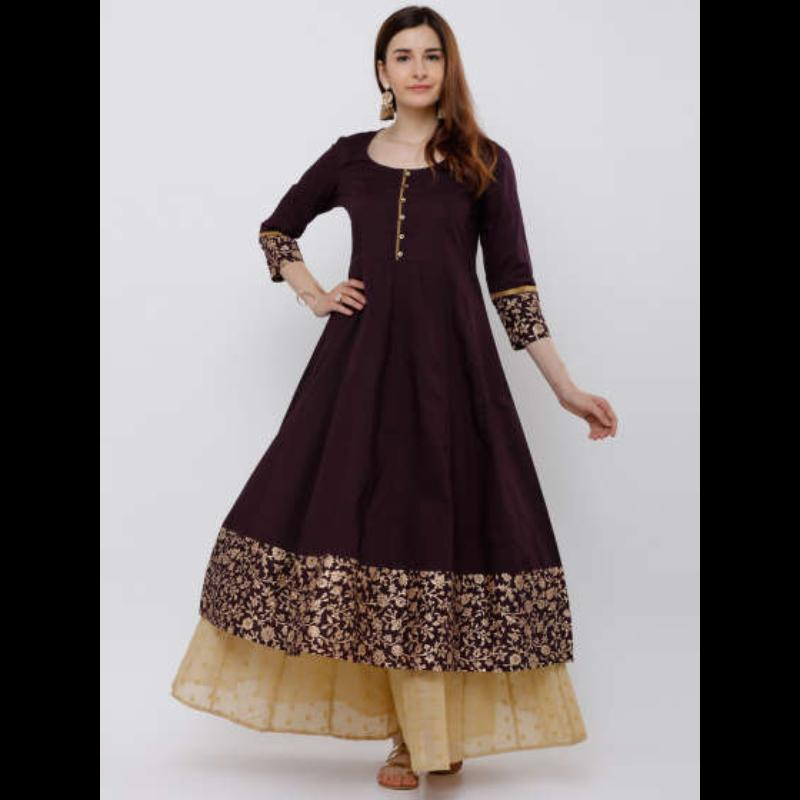Maxi: (169, 124, 592, 731)
